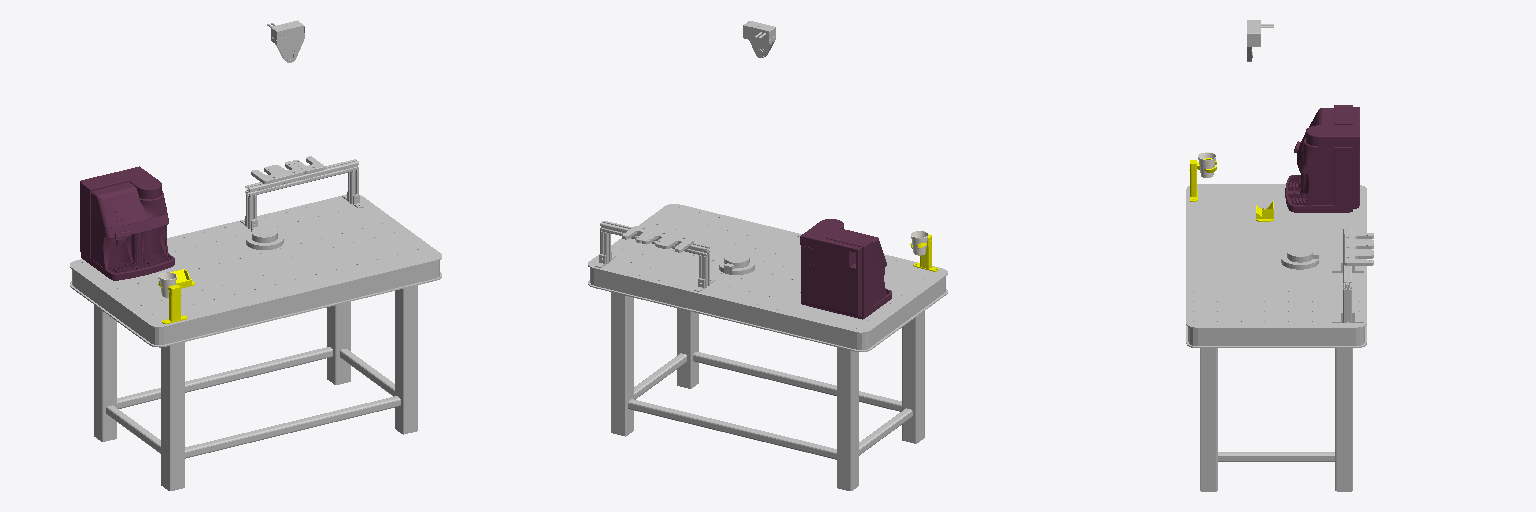
robot.urdf — aubo_e5_10:
<?xml version="1.0"?>
<robot name="aubo_e5_10">
  <!-- ===== 机械臂本体 (6-DOF) ===== -->
  <link name="base_link">
    <inertial>
      <origin xyz="-1.4795E-13 0.0015384 0.020951" rpy="0 0 0"/>
      <mass value="0.83419"/>
      <inertia ixx="0.0014414" ixy="7.8809E-15" ixz="8.5328E-16" iyy="0.0013542" iyz="-1.4364E-05" izz="0.0024659"/>
    </inertial>
    <visual>
      <origin xyz="0 0 0" rpy="0 0 0"/>
      <geometry>
        <mesh filename="package://aubo_description/meshes/visual/link0.dae"/>
      </geometry>
      <material name="">
        <color rgba="0.82 0.82 0.82 1"/>
      </material>
    </visual>
    <collision>
      <origin xyz="0 0 0" rpy="0 0 0"/>
      <geometry>
        <mesh filename="package://aubo_description/meshes/collision/link0.stl"/>
      </geometry>
    </collision>
  </link>

  <link name="shoulder_Link">
    <inertial>
      <origin xyz="0 0.0038 0.0006" rpy="0 0 0"/>
      <mass value="5.05"/>
      <inertia ixx="0.0148" ixy="0" ixz="0" iyy="0.0143" iyz="0" izz="0.0095"/>
    </inertial>
    <visual>
      <origin xyz="0 0 0" rpy="0 0 0"/>
      <geometry>
        <mesh filename="package://aubo_description/meshes/visual/link1.dae"/>
      </geometry>
      <material name="">
        <color rgba="0.82 0.82 0.82 1"/>
      </material>
    </visual>
    <collision>
      <origin xyz="0 0 0" rpy="0 0 0"/>
      <geometry>
        <mesh filename="package://aubo_description/meshes/collision/link1.stl"/>
      </geometry>
    </collision>
  </link>

  <joint name="shoulder_joint" type="revolute">
    <origin xyz="0 0 0.122" rpy="0 0 3.1415926535897932384626433832795"/>
    <parent link="base_link"/>
    <child link="shoulder_Link"/>
    <axis xyz="0 0 1"/>
    <limit lower="-3.054326190990076759616458844855" upper="3.054326190990076759616458844855" effort="133" start_stop="207" velocity="2.5964"/>
  </joint>

  <link name="upperArm_Link">
    <inertial>
      <origin xyz="0.2040 0 0.0196" rpy="0 0 0"/>
      <mass value="11.28"/>
      <inertia ixx="0.0305" ixy="0" ixz="0" iyy="0.4505" iyz="0" izz="0.4400"/>
    </inertial>
    <visual>
      <origin xyz="0 0 0" rpy="0 0 0"/>
      <geometry>
        <mesh filename="package://aubo_description/meshes/visual/link2.dae"/>
      </geometry>
      <material name="">
        <color rgba="0.82 0.82 0.82 1"/>
      </material>
    </visual>
    <collision>
      <origin xyz="0 0 0" rpy="0 0 0"/>
      <geometry>
        <mesh filename="package://aubo_description/meshes/collision/link2.stl"/>
      </geometry>
    </collision>
  </link>

  <joint name="upperArm_joint" type="revolute">
    <origin xyz="0 0.1215 0" rpy="-1.5707963267948966192313216916398 -1.5707963267948966192313216916398 0"/>
    <parent link="shoulder_Link"/>
    <child link="upperArm_Link"/>
    <axis xyz="0 0 1"/>
    <limit lower="-3.054326190990076759616458844855" upper="3.054326190990076759616458844855" effort="133" start_stop="207" velocity="2.5964"/>
  </joint>

  <link name="foreArm_Link">
    <inertial>
      <origin xyz="0.2699 0 0.0992" rpy="0 0 0"/>
      <mass value="2.88"/>
      <inertia ixx="0.0033" ixy="0" ixz="0" iyy="0.0575" iyz="0" izz="0.0565"/>
    </inertial>
    <visual>
      <origin xyz="0 0 0" rpy="0 0 0"/>
      <geometry>
        <mesh filename="package://aubo_description/meshes/visual/link3.dae"/>
      </geometry>
      <material name="">
        <color rgba="0.82 0.82 0.82 1"/>
      </material>
    </visual>
    <collision>
      <origin xyz="0 0 0" rpy="0 0 0"/>
      <geometry>
        <mesh filename="package://aubo_description/meshes/collision/link3.stl"/>
      </geometry>
    </collision>
  </link>

  <joint name="foreArm_joint" type="revolute">
    <origin xyz="0.408 0 0" rpy="-3.1415926535897932384626433832795 0 0"/>
    <parent link="upperArm_Link"/>
    <child link="foreArm_Link"/>
    <axis xyz="0 0 1"/>
    <limit lower="-3.054326190990076759616458844855" upper="3.054326190990076759616458844855" effort="133" start_stop="207" velocity="2.5964"/>
  </joint>

  <link name="wrist1_Link">
    <inertial>
      <origin xyz="0 -0.0997 -0.0780" rpy="0 0 0"/>
      <mass value="1.62"/>
      <inertia ixx="0.0023" ixy="0" ixz="0" iyy="0.0013" iyz="0" izz="0.0022"/>
    </inertial>
    <visual>
      <origin xyz="0 0 0" rpy="0 0 0"/>
      <geometry>
        <mesh filename="package://aubo_description/meshes/visual/link4.dae"/>
      </geometry>
      <material name="">
        <color rgba="0.82 0.82 0.82 1"/>
      </material>
    </visual>
    <collision>
      <origin xyz="0 0 0" rpy="0 0 0"/>
      <geometry>
        <mesh filename="package://aubo_description/meshes/collision/link4.stl"/>
      </geometry>
    </collision>
  </link>

  <joint name="wrist1_joint" type="revolute">
    <origin xyz="0.376 0 0" rpy="3.1415926535897932384626433832795 0 1.5707963267948966192313216916398"/>
    <parent link="foreArm_Link"/>
    <child link="wrist1_Link"/>
    <axis xyz="0 0 1"/>
    <limit lower="-3.054326190990076759616458844855" upper="3.054326190990076759616458844855" effort="13.5" start_stop="34" velocity="3.1105"/>
  </joint>

  <link name="wrist2_Link">
    <inertial>
      <origin xyz="0 -0.0028 -0.0030" rpy="0 0 0"/>
      <mass value="1.62"/>
      <inertia ixx="0.0023" ixy="0" ixz="0" iyy="0.0013" iyz="0" izz="0.0022"/>
    </inertial>
    <visual>
      <origin xyz="0 0 0" rpy="0 0 0"/>
      <geometry>
        <mesh filename="package://aubo_description/meshes/visual/link5.dae"/>
      </geometry>
      <material name="">
        <color rgba="0.82 0.82 0.82 1"/>
      </material>
    </visual>
    <collision>
      <origin xyz="0 0 0" rpy="0 0 0"/>
      <geometry>
        <mesh filename="package://aubo_description/meshes/collision/link5.stl"/>
      </geometry>
    </collision>
  </link>

  <joint name="wrist2_joint" type="revolute">
    <origin xyz="0 0.1025 0" rpy="-1.5707963267948966192313216916398 0 0"/>
    <parent link="wrist1_Link"/>
    <child link="wrist2_Link"/>
    <axis xyz="0 0 1"/>
    <limit lower="-3.054326190990076759616458844855" upper="3.054326190990076759616458844855" effort="13.5" start_stop="34" velocity="3.1105"/>
  </joint>

  <link name="wrist3_Link">
    <inertial>
      <origin xyz="0 0 -0.0442" rpy="0 0 0"/>
      <mass value="0.5"/>
      <inertia ixx="0.00139395" ixy="0" ixz="0" iyy="0.00139882" iyz="0" izz="0.00224092"/>
    </inertial>
    <visual>
      <origin xyz="0 0 0" rpy="0 0 0"/>
      <geometry>
        <mesh filename="package://aubo_description/meshes/visual/link6.dae"/>
      </geometry>
      <material name="">
        <color rgba="0.82 0.82 0.82 1"/>
      </material>
    </visual>
    <collision>
      <origin xyz="0 0 0" rpy="0 0 0"/>
      <geometry>
        <mesh filename="package://aubo_description/meshes/collision/link6.stl"/>
      </geometry>
    </collision>
  </link>

  <joint name="wrist3_joint" type="revolute">
    <origin xyz="0 -0.094 0" rpy="1.5707963267948966192313216916398 0 1.7907E-15"/>
    <parent link="wrist2_Link"/>
    <child link="wrist3_Link"/>
    <axis xyz="0 0 1"/>
    <limit lower="-3.054326190990076759616458844855" upper="3.054326190990076759616458844855" effort="13.5" start_stop="34" velocity="3.1105"/>
  </joint>

  <link name="world"/>

  <!-- ===== 底座（咖啡机总装模型 pedestal_Link） ===== -->
  <link name="pedestal_Link">
    <inertial>
      <origin xyz="0.0024005 -0.14873 -0.0020194" rpy="0 0 0"/>
      <mass value="180.93"/>
      <inertia ixx="10.702" ixy="6.7618E-17" ixz="3.0187E-14" iyy="41.01" iyz="1.466E-07" izz="32.457"/>
    </inertial>
    <visual>
      <origin xyz="0 0 0" rpy="0 0 0"/>
      <geometry>
        <mesh filename="package://aubo_description/meshes/visual/pedestal_link.stl"/>
      </geometry>
      <material name="">
        <color rgba="0.82 0.82 0.82 1"/>
      </material>
    </visual>
    <collision>
      <origin xyz="0 0 0" rpy="0 0 0"/>
      <geometry>
        <mesh filename="package://aubo_description/meshes/collision/pedestal_link.stl"/>
      </geometry>
    </collision>
  </link>

  <joint name="world_to_pedestal" type="fixed">
    <parent link="world"/>
    <child link="pedestal_Link"/>
    <origin xyz="-0.10483 -0.10483 -0.028" rpy="0.0 0.0 0.0"/>
  </joint>

  <!-- base_link 直接挂在 world 下，与世界原点重合 -->
  <joint name="world_to_base" type="fixed">
    <origin xyz="0.0 0.0 0.0" rpy="0 0 0"/>
    <parent link="world"/>
    <child link="base_link"/>
  </joint>

  <!-- ===== 咖啡机总装模型配件 ===== -->
  <link name="cup0_Link">
    <inertial>
      <origin xyz="0.0459046653140415 0.0335578409178754 0.00298286778797363" rpy="0 0 0"/>
      <mass value="1.42763211505643"/>
      <inertia ixx="0.00133864759857838" ixy="-0.000153798571779387" ixz="-3.31742934007893E-05" iyy="0.00208448111254178" iyz="-3.67284842420613E-05" izz="0.0011896985575748"/>
    </inertial>
    <visual>
      <origin xyz="0 0 0" rpy="0 0 0"/>
      <geometry>
        <mesh filename="package://aubo_description/meshes/visual/cup0_link.stl"/>
      </geometry>
      <material name="">
        <color rgba="1 1 0 1"/>
      </material>
    </visual>
    <collision>
      <origin xyz="0 0 0" rpy="0 0 0"/>
      <geometry>
        <mesh filename="package://aubo_description/meshes/collision/cup0_link.stl"/>
      </geometry>
    </collision>
  </link>

  <joint name="cup0_joint" type="fixed">
    <origin xyz="-0.4225 -0.0925 -0.012" rpy="1.5708 0 1.5708"/>
    <parent link="pedestal_Link"/>
    <child link="cup0_Link"/>
  </joint>


  <!-- lizhu_Link — 咖啡杯立柱底座喵~ -->
  <link name="lizhu_Link">
    <inertial>
      <origin xyz="0.012277 0.082104 1.7053E-05" rpy="0 0 0"/>
      <mass value="0.86598"/>
      <inertia ixx="0.0014347" ixy="1.5778E-05" ixz="1.1895E-08" iyy="0.00066764" iyz="3.1238E-05" izz="0.0012088"/>
    </inertial>
    <visual>
      <origin xyz="0 0 0" rpy="0 0 0"/>
      <geometry>
        <mesh filename="package://aubo_description/meshes/visual/lizhu_link.stl"/>
      </geometry>
      <material name="">
        <color rgba="1 1 0 1"/>
      </material>
    </visual>
    <collision>
      <origin xyz="0 0 0" rpy="0 0 0"/>
      <geometry>
        <mesh filename="package://aubo_description/meshes/collision/lizhu_link.stl"/>
      </geometry>
    </collision>
  </link>

  <joint name="lizhu_joint" type="fixed">
    <origin xyz="-0.630 -0.3675 0.006" rpy="1.5708 0 1.5708"/>
    <parent link="pedestal_Link"/>
    <child link="lizhu_Link"/>
  </joint>

  <!-- 一次性纸杯 (360ml): 上口Ø80mm 下底Ø56mm 高92mm, 置于 lizhu 立柱位置喵~ -->
  <link name="paper_cup_Link">
    <inertial>
      <origin xyz="0 0 0.046" rpy="0 0 0"/>
      <mass value="0.01"/>
      <inertia ixx="1e-5" ixy="0" ixz="0" iyy="1e-5" iyz="0" izz="1e-5"/>
    </inertial>
    <visual>
      <origin xyz="0 0 0" rpy="0 0 0"/>
      <geometry>
        <mesh filename="package://aubo_description/meshes/visual/paper_cup.stl"/>
      </geometry>
      <material name="paper_cup_mat">
        <color rgba="1.0 0.98 0.94 1.0"/>
      </material>
    </visual>
    <collision>
      <origin xyz="0 0 0" rpy="0 0 0"/>
      <geometry>
        <mesh filename="package://aubo_description/meshes/collision/paper_cup.stl"/>
      </geometry>
    </collision>
  </link>

  <joint name="paper_cup_joint" type="fixed">
    <origin xyz="-0.630 -0.3075 0.106" rpy="0 0 0"/>
    <parent link="pedestal_Link"/>
    <child link="paper_cup_Link"/>
  </joint>

  <link name="coffee_Link">
    <inertial>
      <origin xyz="0.01588 0.20584 0.0021911" rpy="0 0 0"/>
      <mass value="91.454"/>
      <inertia ixx="0.89876" ixy="0.0020091" ixz="-0.10749" iyy="1.0151" iyz="0.023803" izz="0.44104"/>
    </inertial>
    <visual>
      <origin xyz="0 0 0" rpy="0 0 0"/>
      <geometry>
        <mesh filename="package://aubo_description/meshes/visual/coffee_link.stl"/>
      </geometry>
      <material name="">
        <color rgba="0.42745 0.24706 0.35686 1"/>
      </material>
    </visual>
    <collision>
      <origin xyz="0 0 0" rpy="0 0 0"/>
      <geometry>
        <mesh filename="package://aubo_description/meshes/collision/coffee_link.stl"/>
      </geometry>
    </collision>
  </link>

  <joint name="coffee_joint" type="fixed">
    <origin xyz="-0.53995 0.20318 0.046" rpy="1.5708 0 1.5708"/>
    <parent link="pedestal_Link"/>
    <child link="coffee_Link"/>
  </joint>

  <!-- ===== 末端执行器: 相机 ===== -->
  <link name="camera_Link">
    <inertial>
      <origin xyz="-0.0005963 0.085972 -0.026401" rpy="0 0 0"/>
      <mass value="0.72743"/>
      <inertia ixx="0.00064649" ixy="2.7688E-06" ixz="-2.0272E-05" iyy="0.0013072" iyz="8.2399E-05" izz="0.0014971"/>
    </inertial>
    <visual>
      <origin xyz="0 0 0" rpy="0 0 0"/>
      <geometry>
        <mesh filename="package://aubo_description/meshes/visual/camera_link.stl"/>
      </geometry>
      <material name="">
        <color rgba="0.82 0.82 0.82 1"/>
      </material>
    </visual>
    <collision>
      <origin xyz="0 0 0" rpy="0 0 0"/>
      <geometry>
        <mesh filename="package://aubo_description/meshes/collision/camera_link.stl"/>
      </geometry>
    </collision>
  </link>

  <joint name="camera_joint" type="fixed">
    <origin xyz="0.0 0.0 0.020" rpy="0.0 0.0 0.0"/>
    <parent link="wrist3_Link"/>
    <child link="camera_Link"/>
  </joint>

  <!-- ===== 末端执行器: 快换法兰 ===== -->
  <link name="kuaihuan_Link">
    <inertial>
      <origin xyz="-0.00074639 7.4616E-05 0.0097884" rpy="0 0 0"/>
      <mass value="0.21939"/>
      <inertia ixx="6.3771E-05" ixy="4.2875E-07" ixz="-1.7848E-07" iyy="6.9403E-05" iyz="-4.5085E-07" izz="0.0001149"/>
    </inertial>
    <visual>
      <origin xyz="0 0 0" rpy="0 0 0"/>
      <geometry>
        <mesh filename="package://aubo_description/meshes/visual/kuaihuan_link.stl"/>
      </geometry>
      <material name="">
        <color rgba="0.82 0.82 0.82 1"/>
      </material>
    </visual>
    <collision>
      <origin xyz="0 0 0" rpy="0 0 0"/>
      <geometry>
        <mesh filename="package://aubo_description/meshes/collision/kuaihuan_link.stl"/>
      </geometry>
    </collision>
  </link>

  <joint name="kuaihuan_joint" type="fixed">
    <origin xyz="0 0 0.0215" rpy="0 0 3.1416"/>
    <parent link="camera_Link"/>
    <child link="kuaihuan_Link"/>
  </joint>
</robot>

--- Facts derived from the render (not from the file) ---
Views: 3 orthographic renders of the robot side by side, from view 1: azimuth 30°, elevation 25°; view 2: azimuth 150°, elevation 25°; view 3: azimuth 270°, elevation 25°.
Model aubo_e5_10 with 15 links and 14 joints (6 revolute, 8 fixed), rooted at world, posed all joints at 0.
Visible links, largest first — view 1: pedestal_Link, coffee_Link, camera_Link, base_link; view 2: pedestal_Link, coffee_Link, camera_Link, base_link; view 3: pedestal_Link, coffee_Link, base_link.
Boxes of the visible links, x1,y1,x2,y2 form: pedestal_Link: (70,156,441,490); coffee_Link: (80,166,174,280); camera_Link: (267,20,304,62); base_link: (246,226,283,249); pedestal_Link: (588,204,947,490); coffee_Link: (800,219,891,319); camera_Link: (743,21,775,57); base_link: (719,252,754,274); pedestal_Link: (1186,184,1373,491); coffee_Link: (1285,105,1359,212); base_link: (1281,246,1318,269).
Size in the robot's own frame: 1.5 by 0.83 by 2.02 metres.
7 mesh visuals loaded from 14 distinct referenced files (6 binary STL, 1 Collada DAE); not drawn: 7 (reference not matched to a file when rendering).
